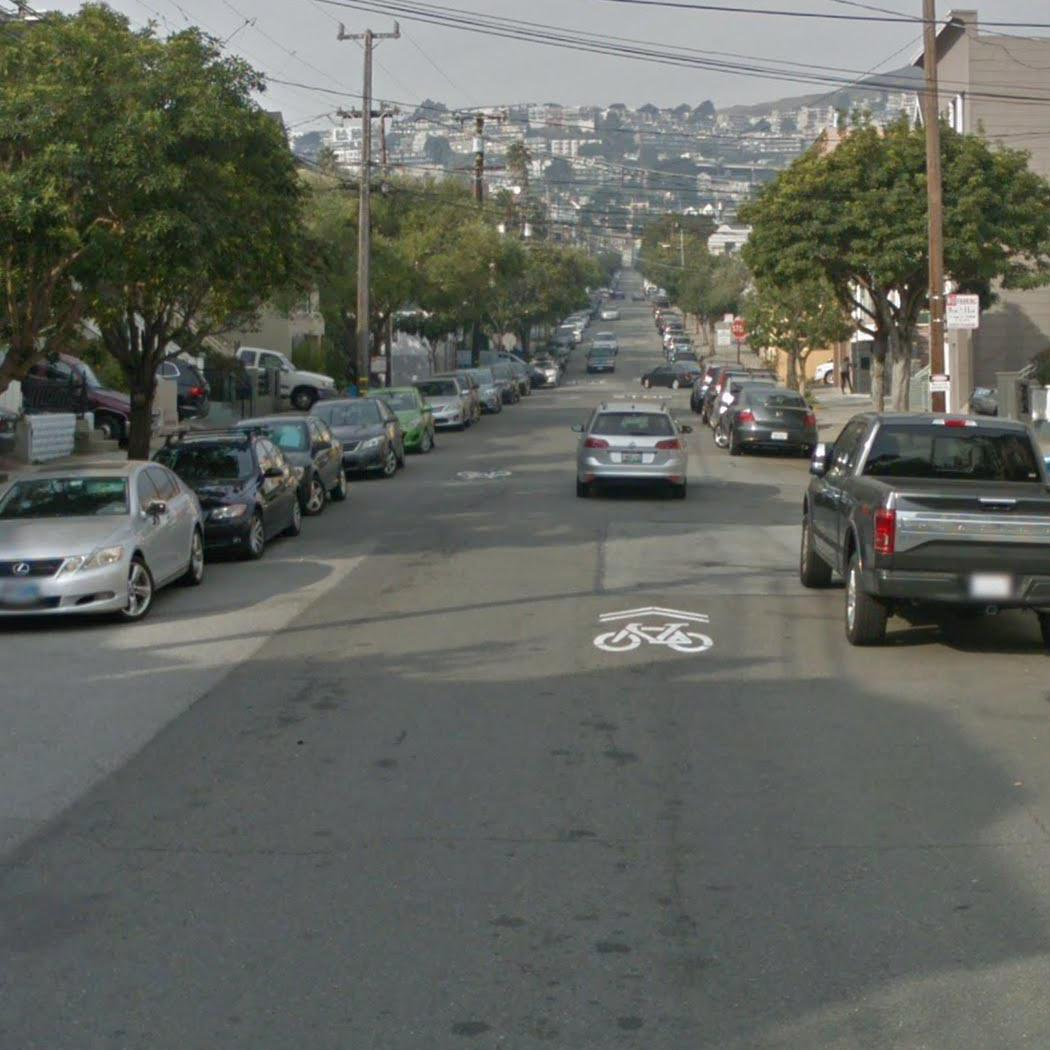No Parking: (943, 291, 981, 332)
